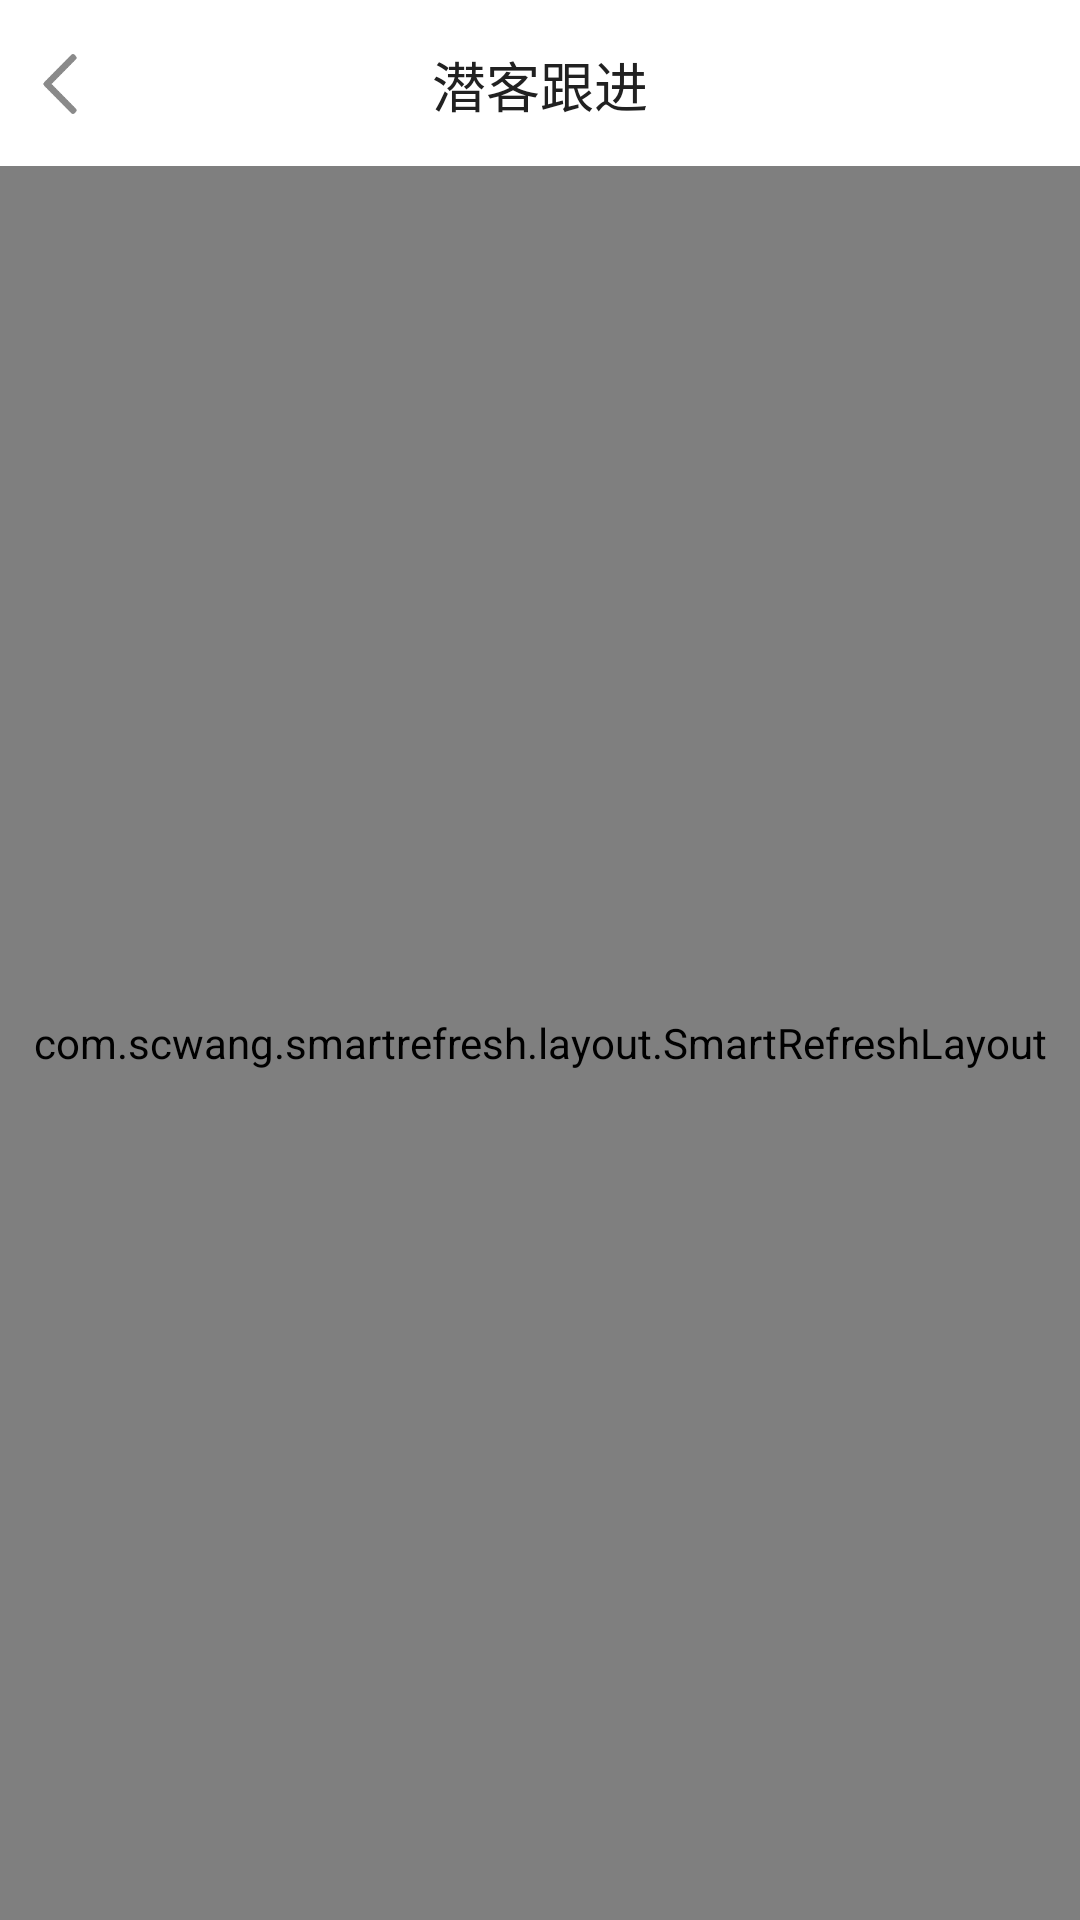

Point at icon controls on the screen. Image size 1080px x 1920px, points as [x,y].
back: [60,84]
